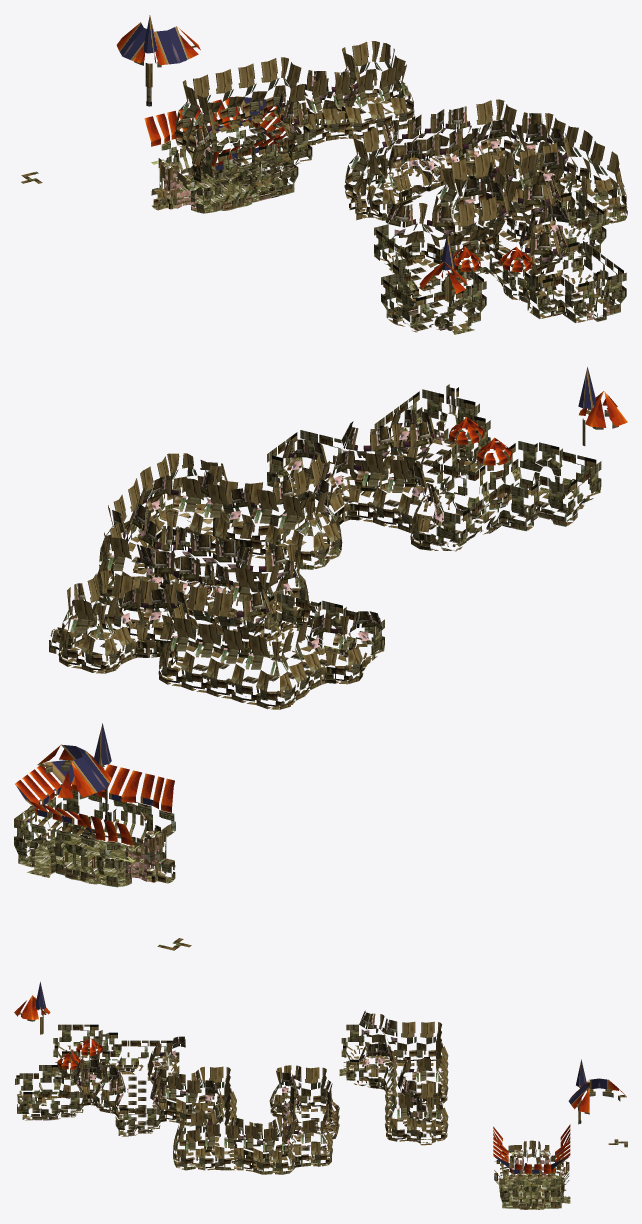
3 renders of one model, top to bottom at view 1: azimuth 30°, elevation 25°; view 2: azimuth 150°, elevation 25°; view 3: azimuth 270°, elevation 25°, orthographic. The views are drawn at different scales.
Visible parts, largest first — view 1: T1L2M003_129, T1L2M003_166, T1L2M003_61, T1L2M003_62, T1L2M003_93, T1L2M003_94, T1L2M003_8, T1L2M003_95, T1L2M003_96, T1L2M003_6, T1L2M003_213, T1L2M003_175 (+66 smaller); view 2: T1L2M003_204, T1L2M003_17, T1L2M003_62, T1L2M003_60, T1L2M003_61, T1L2M003_65, T1L2M003_59, T1L2M003_177, T1L2M003_176, T1L2M003_84, T1L2M003_178, T1L2M003_88 (+22 smaller); view 3: T1L2M003_75, T1L2M003_125, T1L2M003_118, T1L2M003_86, T1L2M003_140, T1L2M003_77, T1L2M003_158, T1L2M003_169, T1L2M003_150, T1L2M003_142, T1L2M003_164, T1L2M003_99 (+22 smaller).
Part boxes in pixels (x1,y1,x2,y2): T1L2M003_129: (396, 140, 432, 204); T1L2M003_166: (385, 203, 417, 269); T1L2M003_61: (227, 63, 256, 128); T1L2M003_62: (250, 58, 279, 123); T1L2M003_93: (310, 78, 339, 143); T1L2M003_94: (333, 76, 361, 139); T1L2M003_8: (154, 26, 188, 64); T1L2M003_95: (355, 73, 384, 137); T1L2M003_96: (378, 67, 407, 131); T1L2M003_6: (132, 15, 166, 87); T1L2M003_213: (522, 233, 551, 297); T1L2M003_175: (424, 206, 453, 270); T1L2M003_204: (477, 438, 507, 516); T1L2M003_17: (104, 819, 135, 887); T1L2M003_62: (167, 617, 195, 690); T1L2M003_60: (217, 629, 245, 702); T1L2M003_61: (192, 623, 221, 696); T1L2M003_65: (67, 599, 96, 672); T1L2M003_59: (242, 636, 270, 709); T1L2M003_177: (358, 453, 387, 526); T1L2M003_176: (383, 459, 411, 532); T1L2M003_84: (120, 588, 152, 659); T1L2M003_178: (332, 450, 365, 521); T1L2M003_88: (309, 613, 341, 685); T1L2M003_75: (416, 1096, 435, 1145); T1L2M003_125: (301, 1120, 320, 1166); T1L2M003_118: (301, 1067, 320, 1111); T1L2M003_86: (397, 1095, 416, 1141); T1L2M003_140: (263, 1128, 281, 1174); T1L2M003_77: (397, 1021, 416, 1066); T1L2M003_158: (205, 1124, 224, 1170); T1L2M003_169: (166, 1076, 185, 1125); T1L2M003_150: (224, 1125, 243, 1170); T1L2M003_142: (243, 1125, 262, 1174); T1L2M003_164: (186, 1128, 205, 1170); T1L2M003_99: (359, 1010, 378, 1060).
Size of the model in its own units: 54.62 by 39.19 by 128.
